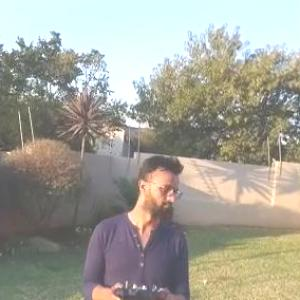follow: (73, 151, 192, 299)
